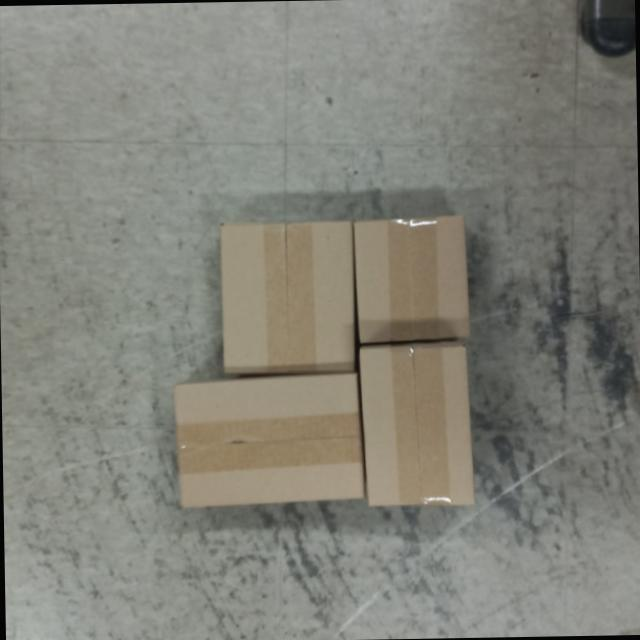box: (167, 369, 369, 513), (214, 214, 362, 382), (356, 338, 480, 514), (353, 207, 475, 349)
